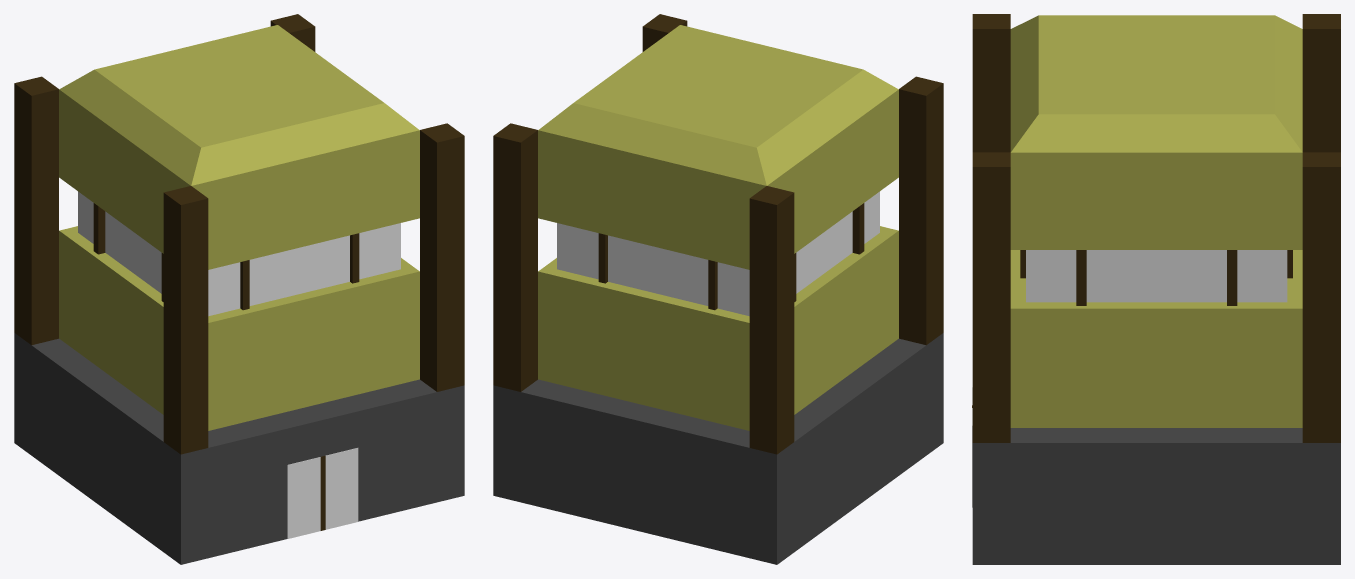
Rendered from bulding#1.fbx.
3 renders of one model, left to right at view 1: azimuth 30°, elevation 25°; view 2: azimuth 150°, elevation 25°; view 3: azimuth 270°, elevation 25°, orthographic. The views are drawn at different scales.
Parts seen in each view (by area): view 1: Cube, Cube.001; view 2: Cube; view 3: Cube.
Part boxes in pixels (box(x1,y1,x2,y2)): Cube: box(14, 14, 464, 564); Cube.001: box(287, 448, 358, 538); Cube: box(493, 14, 943, 564); Cube: box(972, 14, 1340, 564).
Size of the model in its own units: 248 by 320 by 253.
